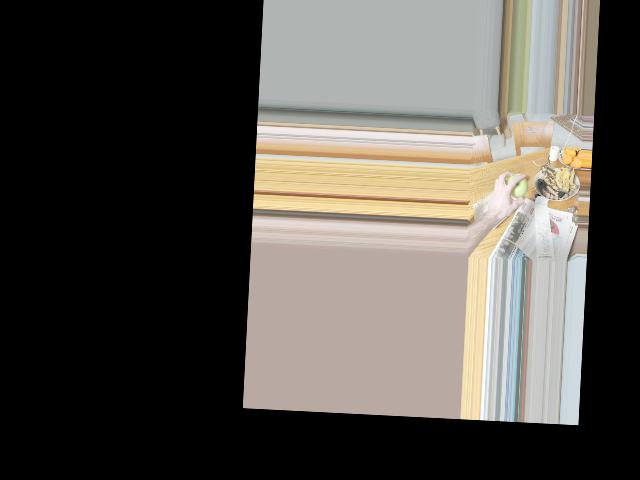apple: (506, 175, 527, 199)
